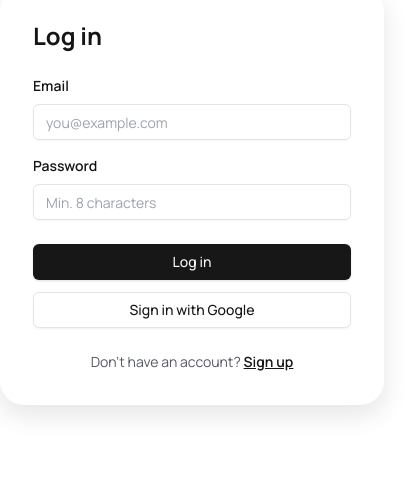
Scenario: LoginPage › shows validation errors for empty submit
Click the button "Log in". click: [192, 262]
box: [33,244,351,280]
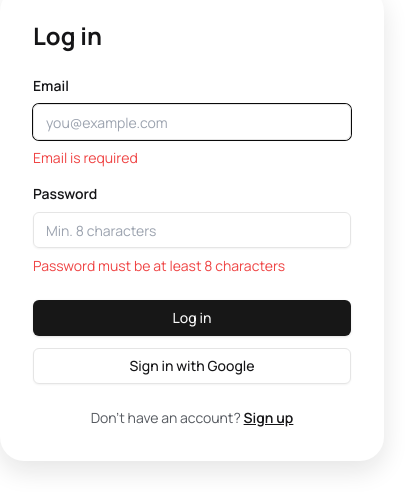
Result: the text "Email is required" is shown at [33,148,138,167]
